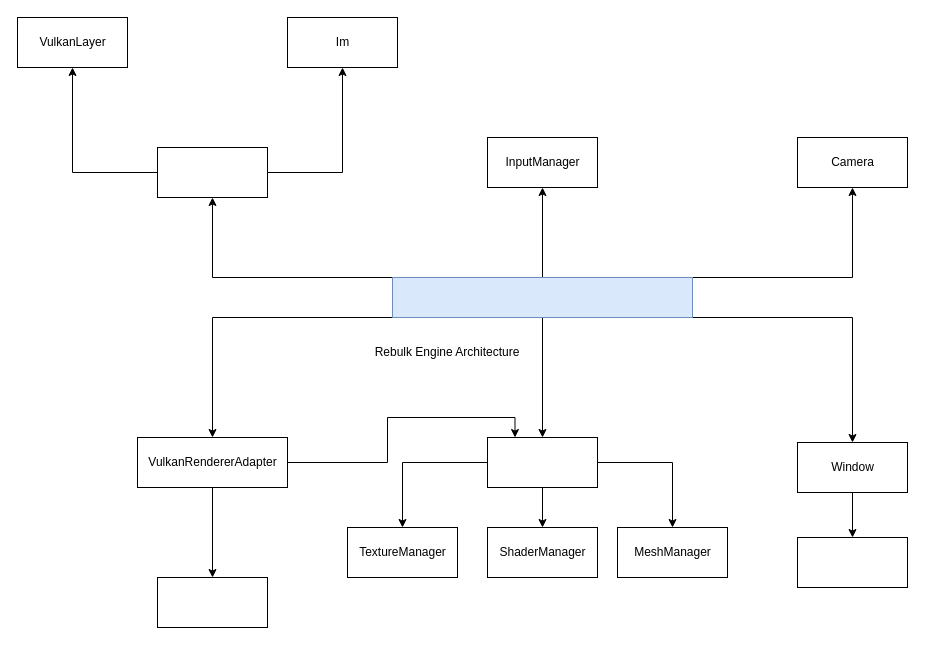
The diagram is 925 pixels wide and 645 high, and some of its shapes have lost their labels. Each missing label, with the centre of its shape:
"Application.cpp" belongs at pixel 542 297.
"GLFWWindow*" belongs at pixel 852 562.
"LayerManager" belongs at pixel 212 172.
"RenderManager" belongs at pixel 542 462.
"VulkanRenderer" belongs at pixel 212 602.
